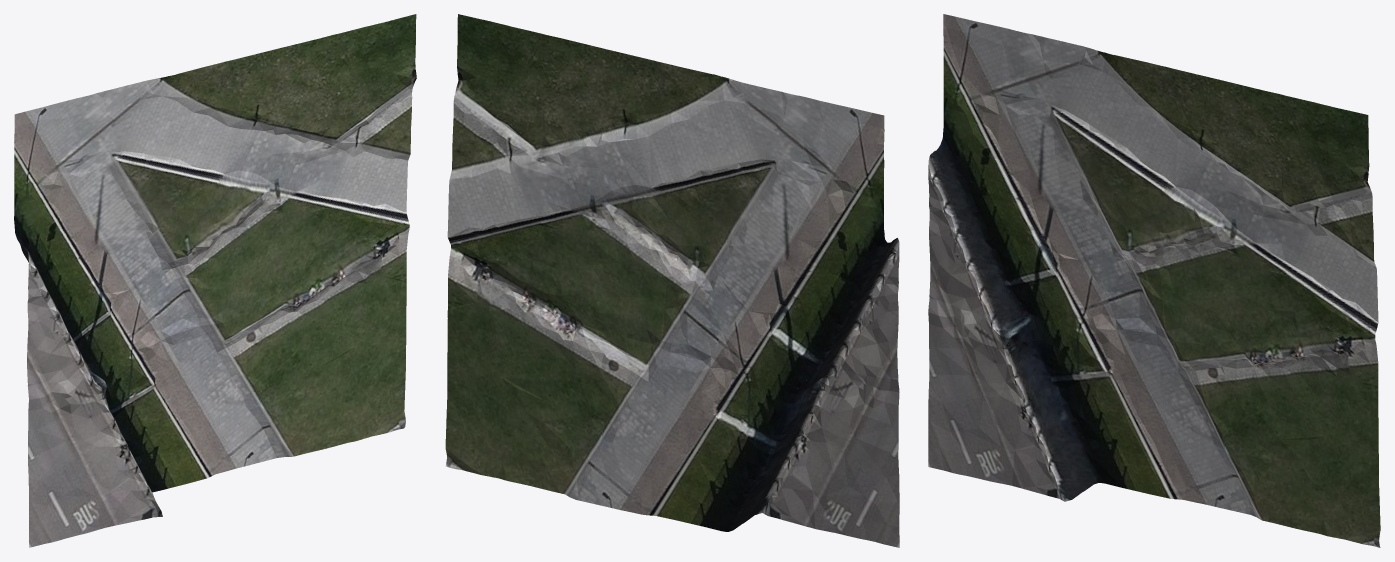
File: Tile_+032_+022_L21_00012000.obj
3 renders of one model, left to right at view 1: azimuth 30°, elevation 25°; view 2: azimuth 150°, elevation 25°; view 3: azimuth 330°, elevation 25°, orthographic. The views are drawn at different scales.
Size of the model in its own units: 31.38 by 31.38 by 4.49.
1 material, 1 textured.
